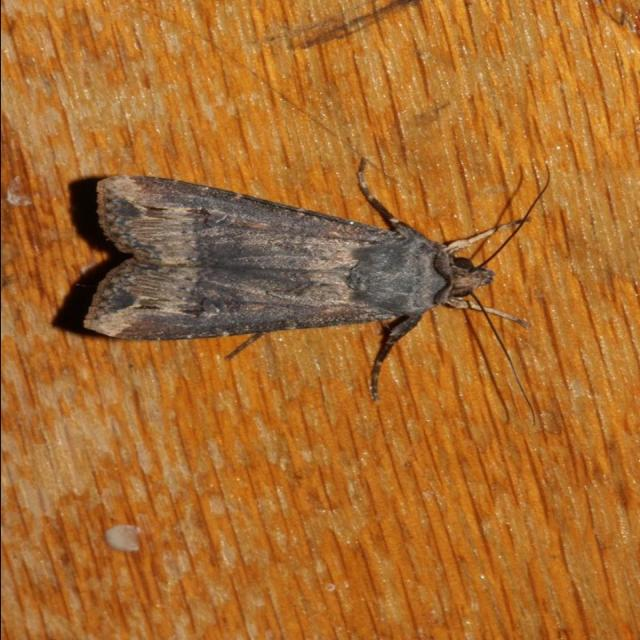black cutworm: (71, 179, 505, 370)
